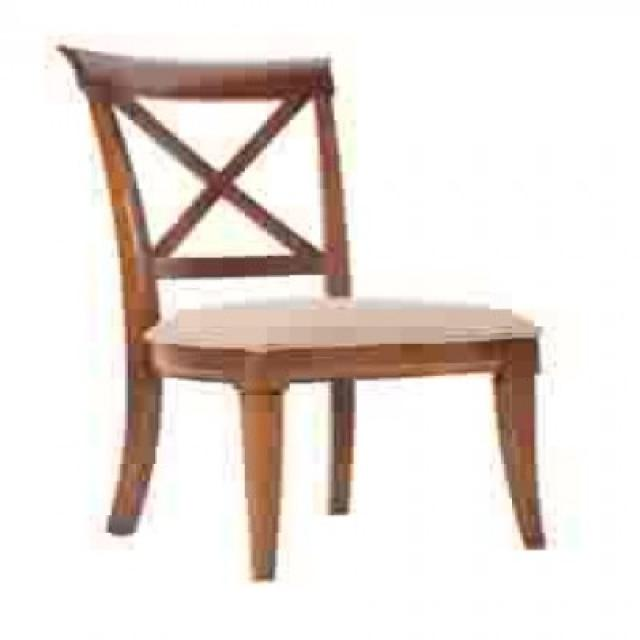chair: (53, 42, 549, 580)
